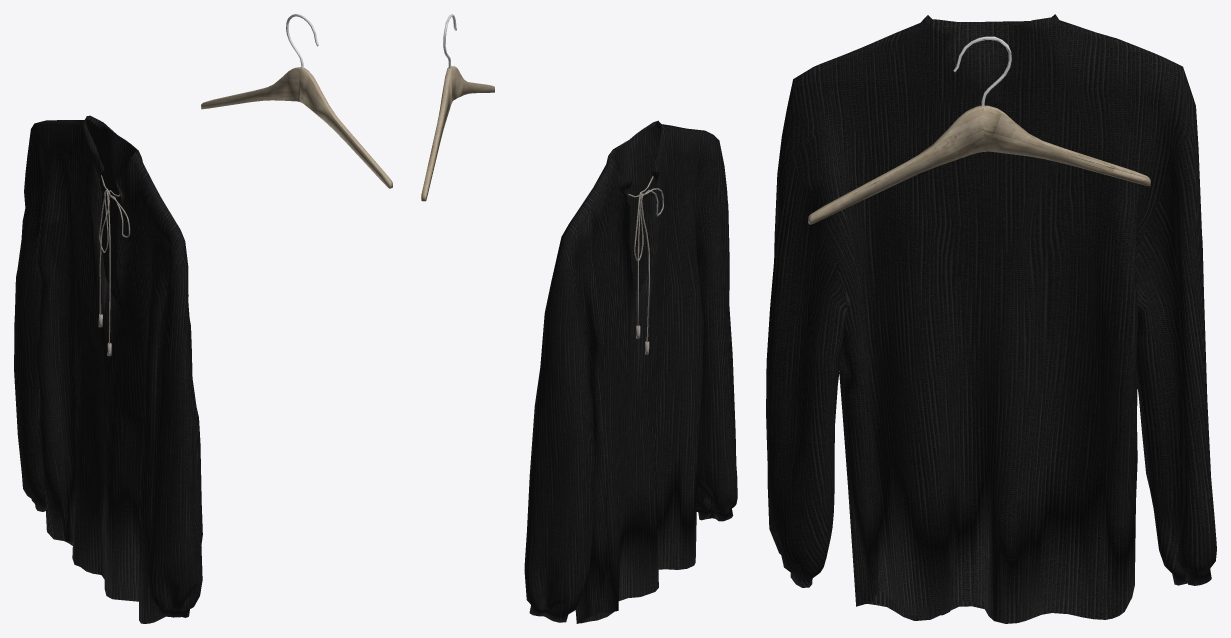
The model's file is rod-shirt01.glb.
3 renders of one model, left to right at view 1: azimuth 30°, elevation 25°; view 2: azimuth 150°, elevation 25°; view 3: azimuth 270°, elevation 25°, orthographic. The views are drawn at different scales.
Parts seen in each view (by area): view 1: shirt01.001, Hangers_for_clothes083.001; view 2: shirt01.001, Hangers_for_clothes083.001; view 3: shirt01.001, Hangers_for_clothes083.001.
Boxes of the visible parts, <box> form: shirt01.001: <box>14,115,202,623</box>; Hangers_for_clothes083.001: <box>201,14,392,188</box>; shirt01.001: <box>524,120,737,623</box>; Hangers_for_clothes083.001: <box>421,14,494,201</box>; shirt01.001: <box>766,14,1216,623</box>; Hangers_for_clothes083.001: <box>808,36,1150,224</box>.
Size of the model in its own units: 0.4599 by 0.9557 by 0.5581.
Materials: 4 (3 with a texture image).
